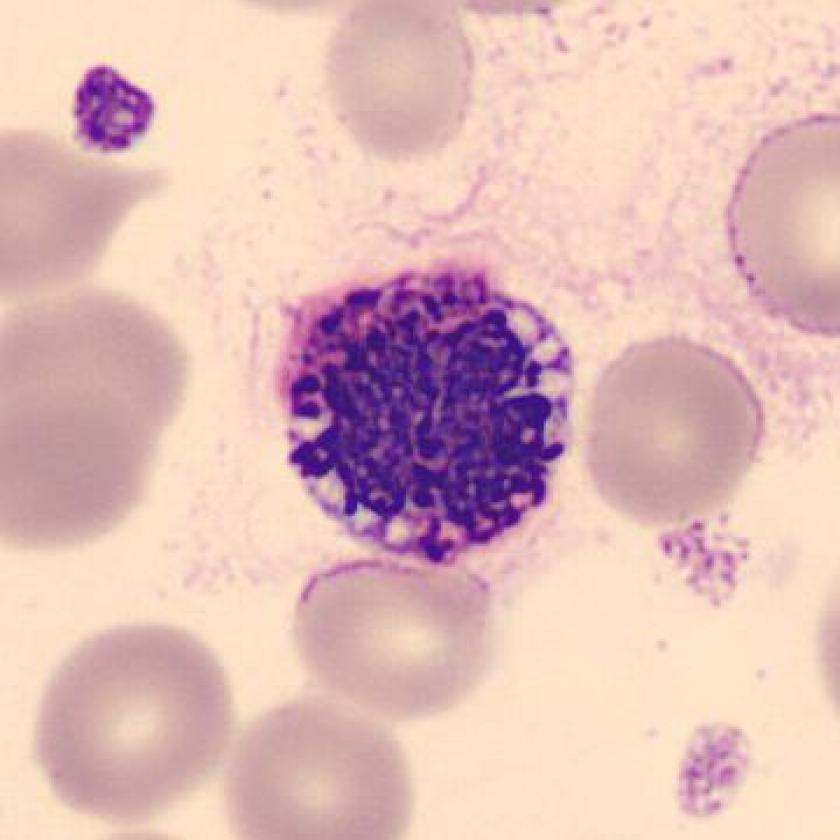basophil: (276, 267, 575, 568)
